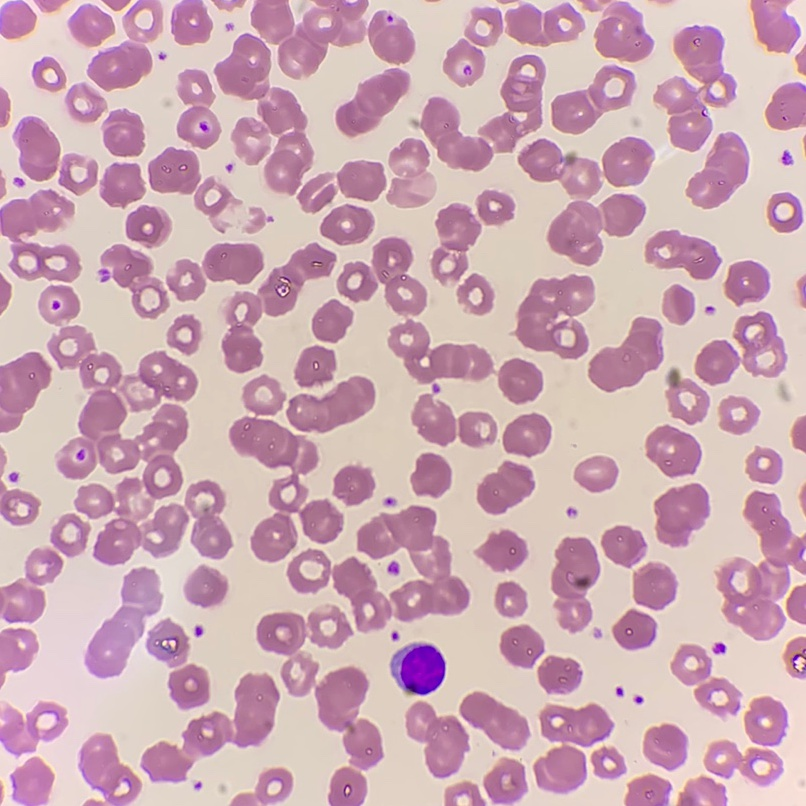RBC: (49, 326, 196, 564), (257, 613, 382, 768), (141, 675, 278, 781), (222, 244, 334, 371), (357, 506, 469, 621), (719, 492, 805, 640), (251, 0, 367, 77), (85, 568, 161, 677), (251, 476, 342, 560), (548, 194, 644, 264), (517, 276, 594, 358), (389, 322, 492, 383), (483, 55, 545, 152), (258, 88, 311, 192), (552, 66, 634, 132), (589, 318, 662, 391), (421, 97, 492, 169), (336, 69, 409, 135), (102, 245, 168, 317), (674, 27, 734, 106), (230, 418, 317, 472), (672, 645, 739, 715), (288, 377, 374, 431), (407, 702, 468, 777), (519, 139, 599, 196), (688, 133, 748, 208), (552, 538, 599, 631), (0, 550, 61, 621), (80, 735, 140, 805), (333, 558, 391, 630), (655, 77, 711, 150), (373, 238, 426, 314), (0, 353, 50, 431), (460, 693, 528, 750), (432, 204, 480, 279), (0, 190, 73, 239), (646, 231, 719, 279), (186, 481, 231, 558), (216, 35, 270, 98), (705, 741, 782, 785), (596, 2, 652, 61), (655, 484, 709, 545), (735, 312, 786, 376), (0, 703, 65, 753), (177, 70, 219, 147), (506, 4, 584, 45), (88, 42, 151, 89), (541, 705, 611, 746), (390, 642, 444, 695), (477, 462, 533, 513), (14, 117, 59, 180), (647, 426, 700, 476), (12, 243, 79, 280), (751, 0, 798, 51), (666, 368, 709, 423), (535, 746, 585, 793), (369, 11, 414, 62), (204, 244, 262, 283), (603, 138, 651, 185), (232, 769, 292, 805), (149, 149, 198, 193), (412, 394, 455, 444), (321, 205, 373, 244), (478, 530, 527, 571), (633, 563, 676, 609), (745, 697, 786, 745), (498, 359, 542, 403), (503, 414, 550, 455), (695, 340, 738, 384), (644, 724, 687, 768), (484, 759, 526, 804), (147, 620, 188, 666), (338, 161, 385, 200), (725, 261, 768, 303), (766, 83, 805, 129), (13, 759, 52, 805), (288, 550, 330, 592), (501, 625, 543, 667), (69, 5, 113, 45), (443, 41, 484, 83), (102, 164, 143, 206), (172, 0, 211, 44), (103, 111, 142, 155), (126, 206, 170, 245), (169, 665, 208, 709), (602, 526, 645, 565), (185, 567, 227, 606), (613, 610, 655, 649), (412, 453, 450, 496), (0, 629, 37, 673), (312, 301, 352, 341), (295, 346, 335, 386), (123, 0, 161, 41), (538, 657, 581, 693), (51, 514, 88, 555), (308, 611, 350, 647), (334, 466, 373, 504), (0, 485, 38, 524), (39, 286, 79, 323), (575, 456, 617, 491), (66, 84, 105, 121), (60, 154, 97, 193), (167, 260, 204, 299), (337, 263, 376, 300), (244, 377, 283, 414), (719, 397, 758, 433), (329, 768, 366, 805), (458, 275, 493, 314), (466, 8, 502, 45), (299, 174, 334, 211), (195, 180, 231, 215), (459, 412, 496, 446), (768, 193, 801, 231), (626, 776, 669, 805), (679, 778, 725, 805), (0, 3, 35, 38), (477, 191, 513, 224), (168, 315, 200, 352), (663, 286, 694, 323), (747, 449, 781, 482), (495, 582, 526, 616), (33, 57, 64, 90), (390, 139, 427, 166), (388, 179, 423, 207), (592, 749, 625, 778), (445, 782, 485, 805), (233, 118, 264, 142), (787, 586, 805, 623), (237, 144, 261, 164), (785, 638, 805, 661), (793, 417, 805, 449), (0, 90, 9, 126), (0, 279, 10, 309), (36, 0, 61, 11), (798, 277, 805, 305), (106, 0, 126, 9), (797, 50, 805, 72), (252, 217, 264, 228), (389, 563, 399, 574), (584, 0, 594, 9), (231, 0, 242, 6), (778, 386, 786, 394), (0, 179, 4, 194), (86, 801, 101, 805), (0, 455, 4, 464), (215, 0, 223, 4), (801, 493, 805, 501)
